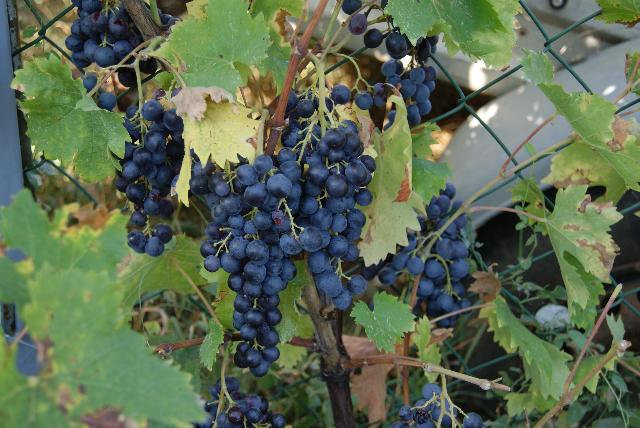grapes: (191, 155, 304, 376), (299, 120, 376, 280), (115, 99, 185, 228), (392, 215, 471, 318), (381, 29, 439, 126), (65, 0, 142, 69), (200, 376, 286, 428), (391, 382, 459, 428), (419, 186, 454, 234), (354, 82, 388, 130)
